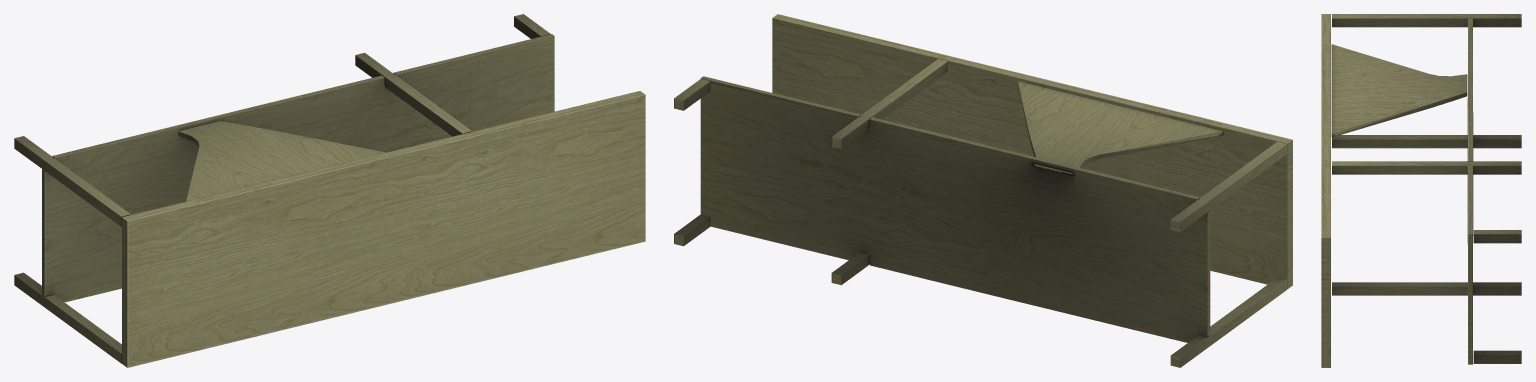
Rendered from nt_2020_wood_table_LOD1.obj.
3 views of the same model, side by side, from view 1: azimuth 30°, elevation 25°; view 2: azimuth 150°, elevation 25°; view 3: azimuth 270°, elevation 25° (orthographic). The views are drawn at different scales.
Visible parts, largest first — view 1: mtl_nt_2020_wood_table; view 2: mtl_nt_2020_wood_table; view 3: mtl_nt_2020_wood_table.
Boxes of the visible parts, left/top/right/bottom form: mtl_nt_2020_wood_table: left=14, top=14, right=645, bottom=367; mtl_nt_2020_wood_table: left=674, top=14, right=1292, bottom=367; mtl_nt_2020_wood_table: left=1321, top=14, right=1521, bottom=367.
Bounding box in the file's own units: 247 × 67.06 × 93.54.
